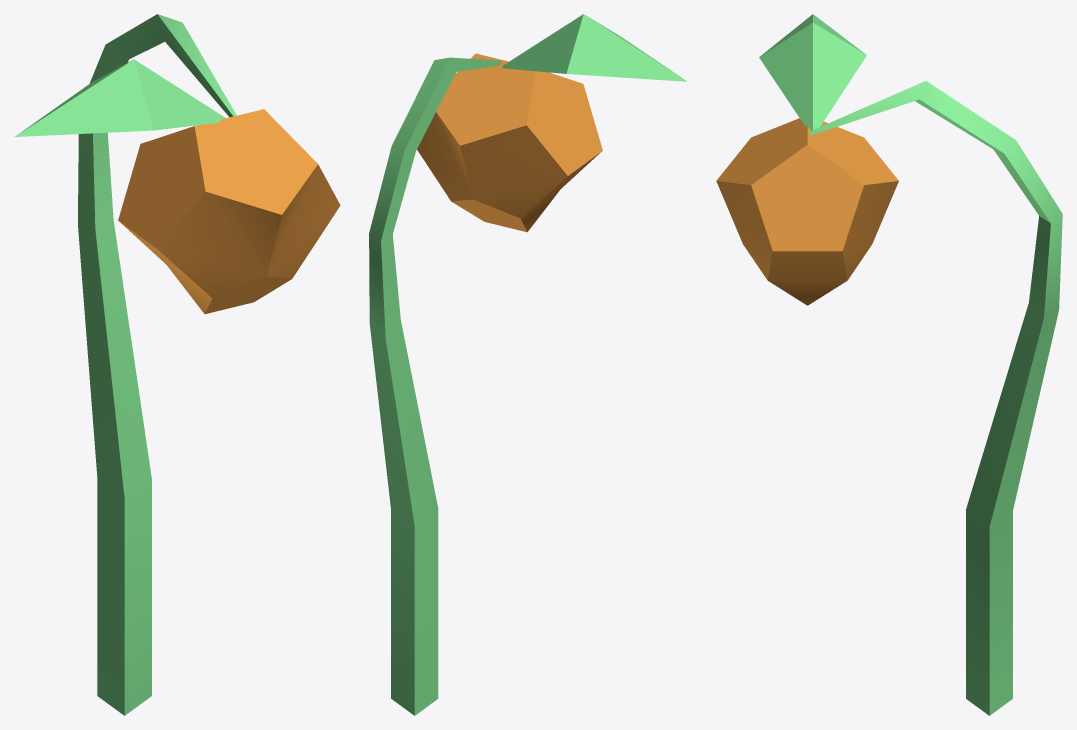
The model's file is 11_hoozuki.fbx.
The picture shows the model from 3 angles, left to right: view 1: azimuth 30°, elevation 25°; view 2: azimuth 150°, elevation 25°; view 3: azimuth 270°, elevation 25°; orthographic projection. The views are drawn at different scales.
Visible parts, largest first — view 1: pCylinder3; view 2: pCylinder3; view 3: pCylinder3.
Part boxes in pixels (<box>): pCylinder3: <box>15,14,340,715</box>; pCylinder3: <box>369,14,687,715</box>; pCylinder3: <box>716,14,1062,715</box>.
Bounding box in the file's own units: 1.11 × 2.6 × 1.27.
